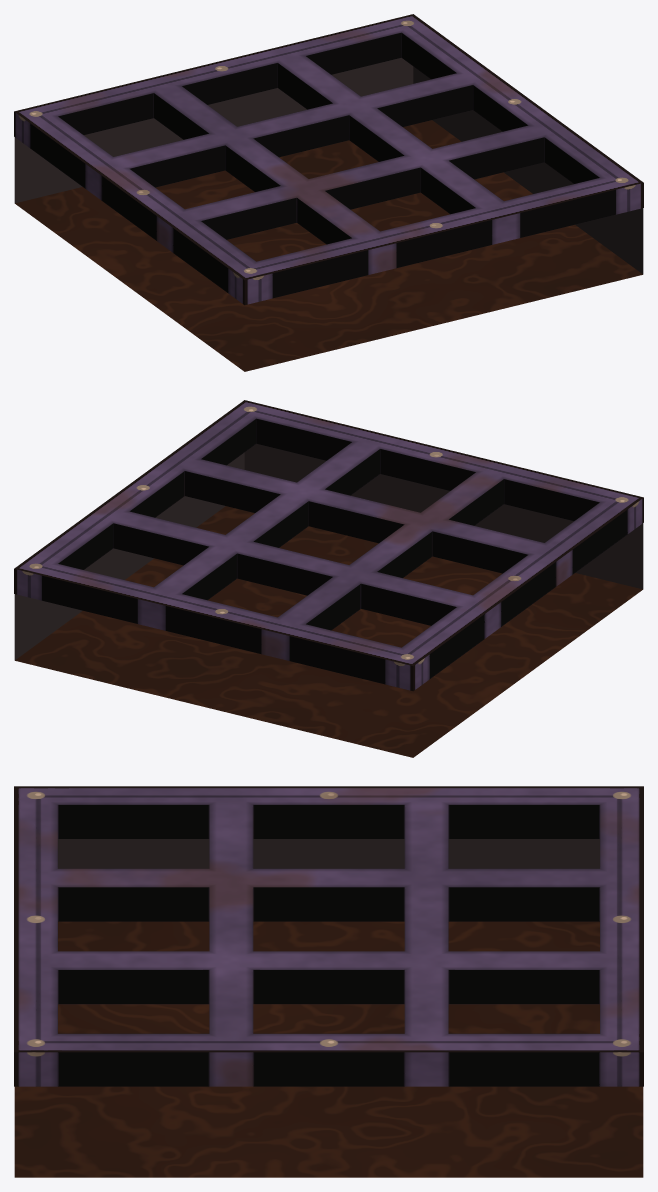
File: CHO_FL_Grid.fbx
The picture shows the model from 3 angles, top to bottom: view 1: azimuth 30°, elevation 25°; view 2: azimuth 150°, elevation 25°; view 3: azimuth 270°, elevation 25°; orthographic projection. The views are drawn at different scales.
Visible parts, largest first — view 1: CHO_FL_Grid; view 2: CHO_FL_Grid; view 3: CHO_FL_Grid.
Boxes of the visible parts, left/top/right/bottom form: CHO_FL_Grid: left=14, top=14, right=643, bottom=371; CHO_FL_Grid: left=14, top=400, right=643, bottom=757; CHO_FL_Grid: left=14, top=786, right=643, bottom=1177.
Bounding box in the file's own units: 1 × 0.22 × 1.
